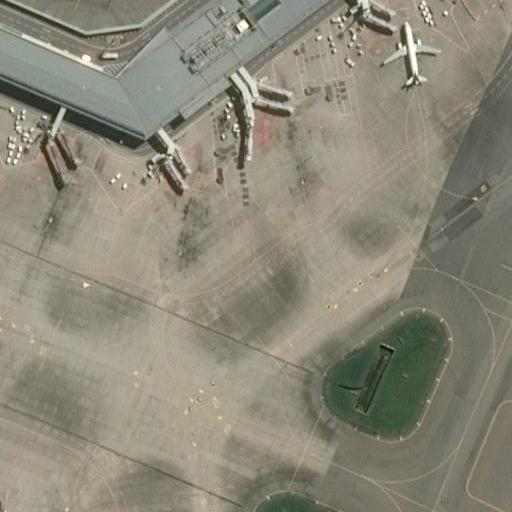Aircraft: (375, 19, 441, 86)
